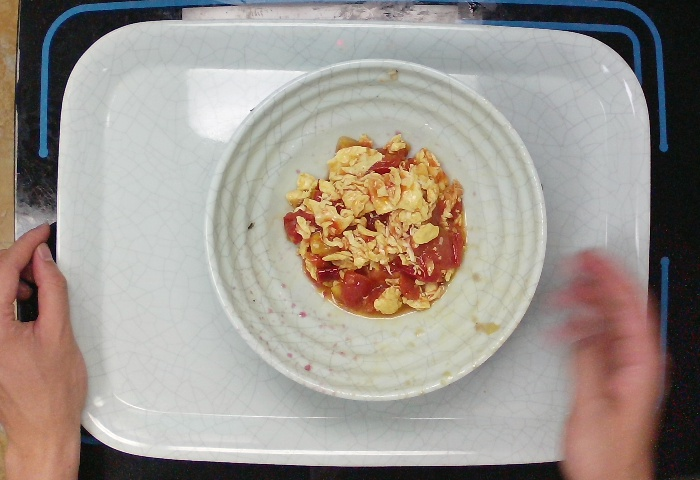JYsf-Da_Tang_Wan: (201, 56, 549, 403)
